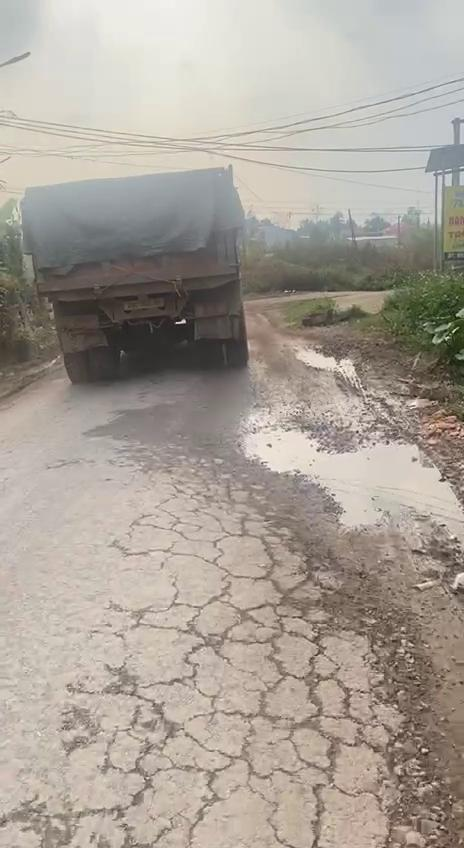pothole: (236, 420, 464, 538)
